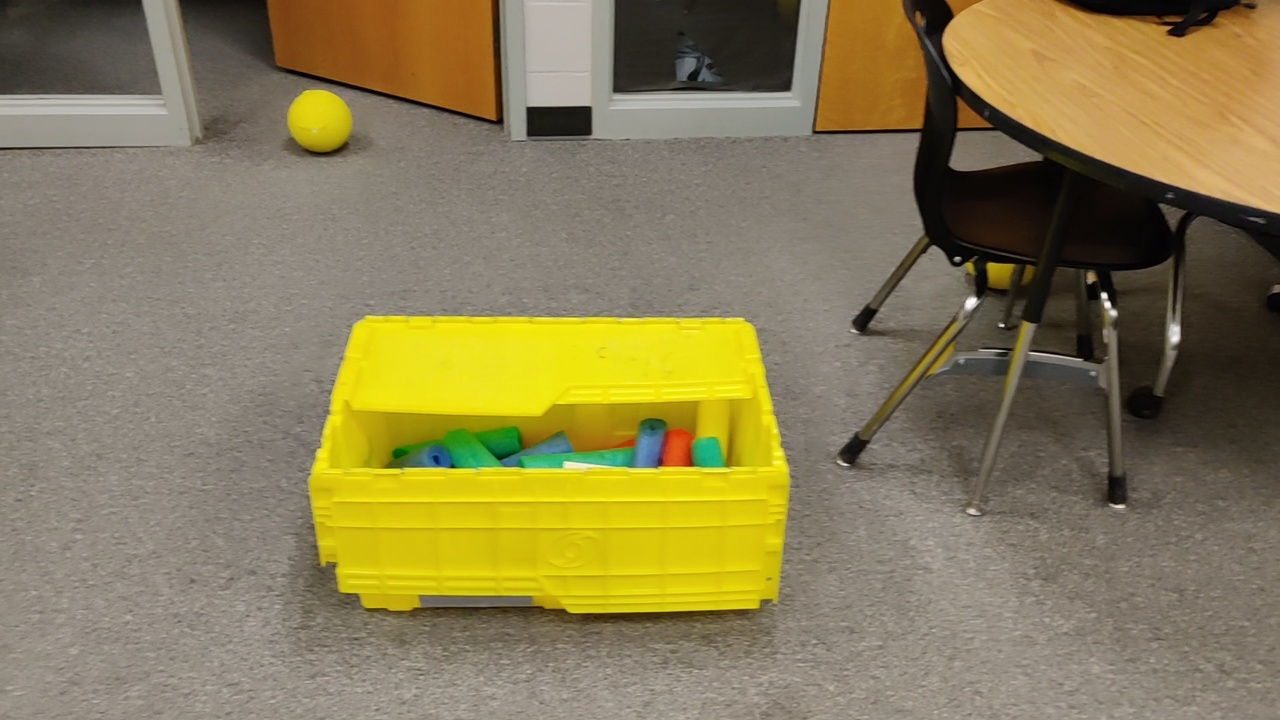Ball: (289, 90, 353, 151), (965, 260, 1034, 293)
